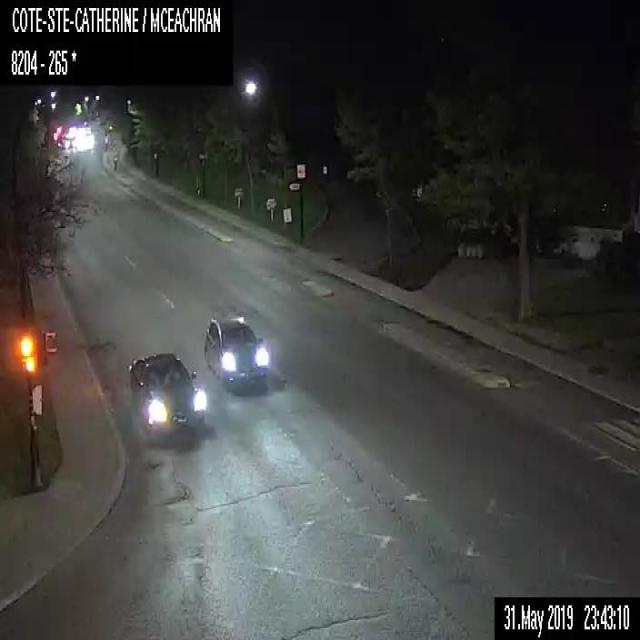vehicle: (127, 351, 204, 436), (204, 317, 269, 387), (66, 136, 76, 148)
